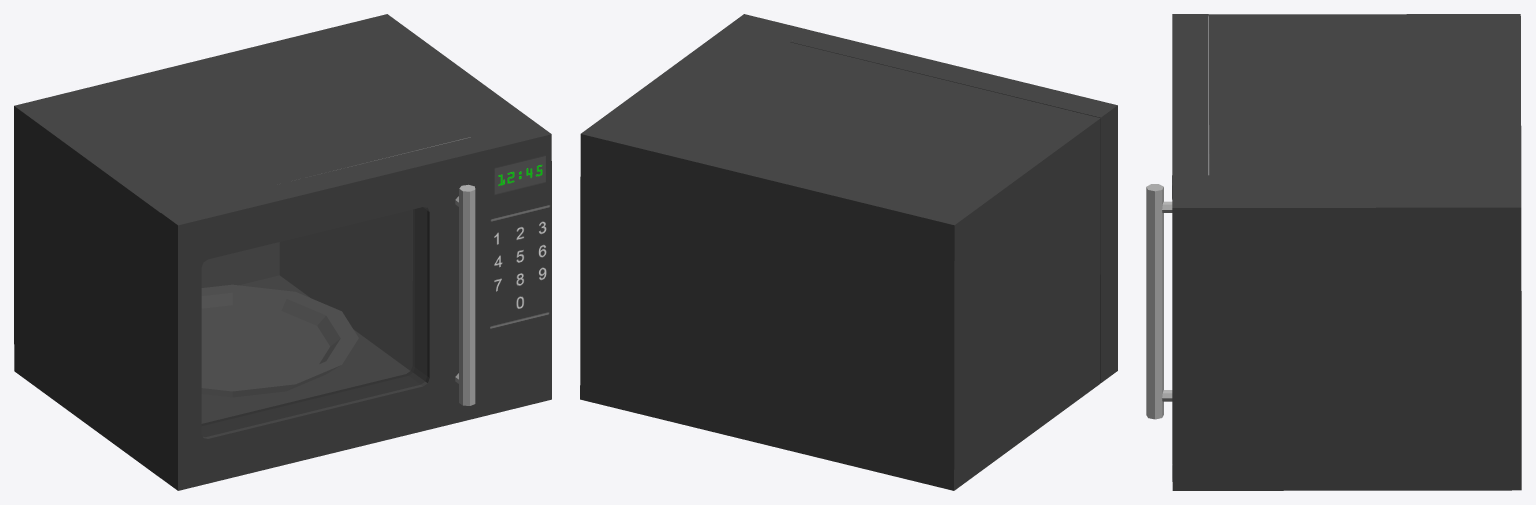
Rendered from microwave.fbx.
3 renders of one model, left to right at view 1: azimuth 30°, elevation 25°; view 2: azimuth 150°, elevation 25°; view 3: azimuth 270°, elevation 25°, orthographic. The views are drawn at different scales.
Parts seen in each view (by area): view 1: microwave; view 2: microwave; view 3: microwave.
Boxes of the visible parts, box(x1,y1,x2,y2) form: microwave: box(14, 14, 551, 490); microwave: box(580, 14, 1117, 490); microwave: box(1146, 14, 1521, 490).
Bounding box in the file's own units: 17.7 × 12.03 × 14.44.
